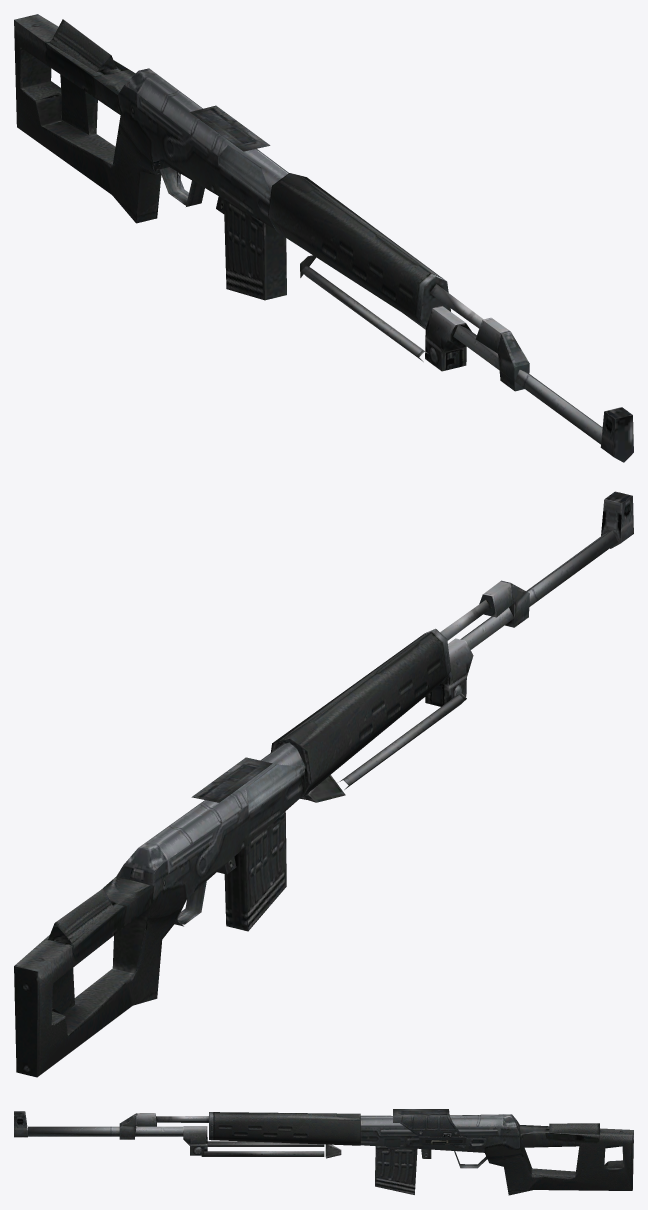
The model's file is Sniper_Rifle_jjq_04_lod2_Body_LOD_(000637).glb.
The picture shows the model from 3 angles, top to bottom: view 1: azimuth 30°, elevation 25°; view 2: azimuth 150°, elevation 25°; view 3: azimuth 270°, elevation 25°; orthographic projection. The views are drawn at different scales.
Visible parts, largest first — view 1: jjq_04_lod2; view 2: jjq_04_lod2; view 3: jjq_04_lod2.
Part boxes in pixels (left/top/right/bottom): jjq_04_lod2: left=14, top=14, right=633, bottom=462; jjq_04_lod2: left=14, top=491, right=633, bottom=1077; jjq_04_lod2: left=14, top=1109, right=633, bottom=1195.
Bounding box in the file's own units: 0.0704 × 0.2342 × 1.52.
1 material, 1 textured.
